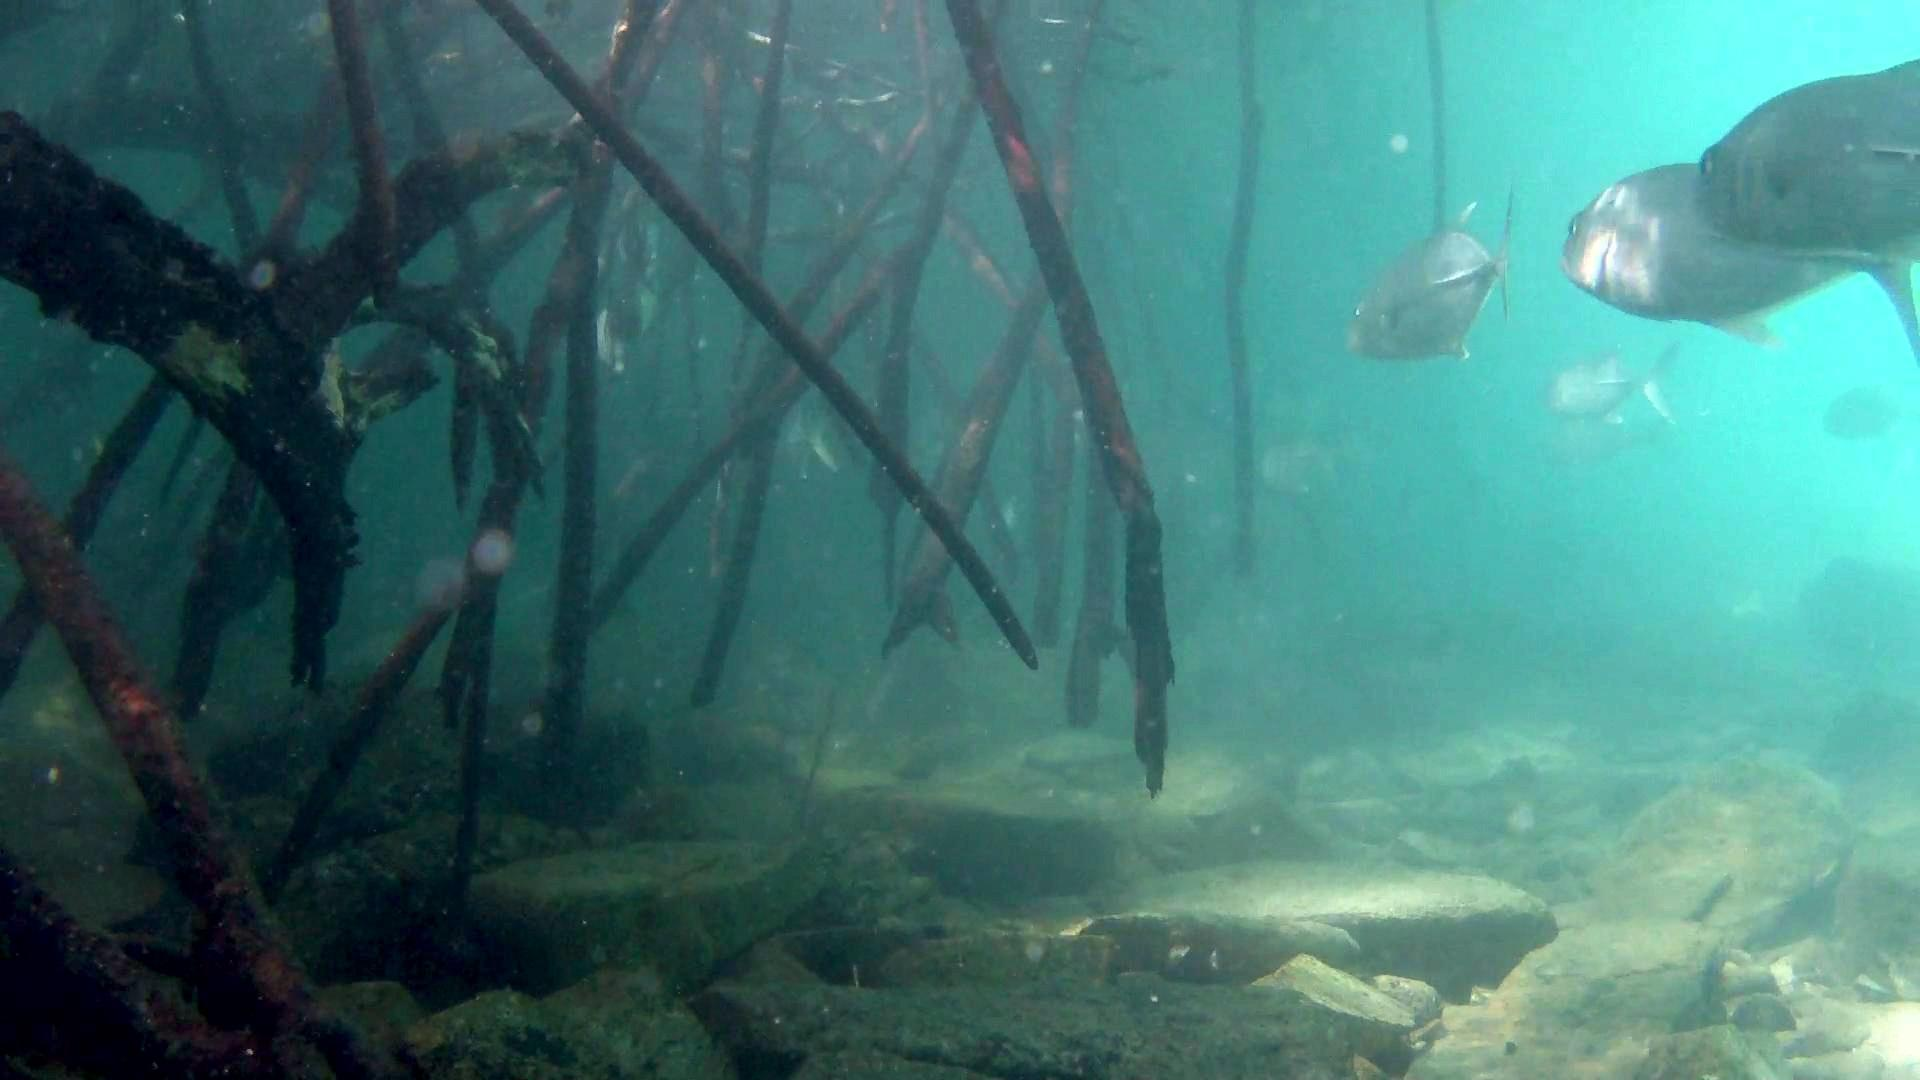caranx: (1553, 158, 1920, 371), (1691, 58, 1920, 252), (1340, 173, 1528, 371)
